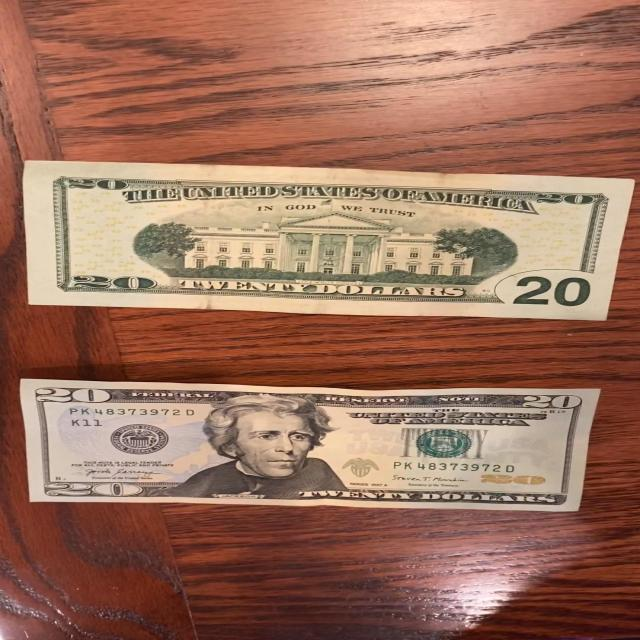20-Back: (11, 155, 635, 323)
20-Front: (13, 380, 612, 517)
